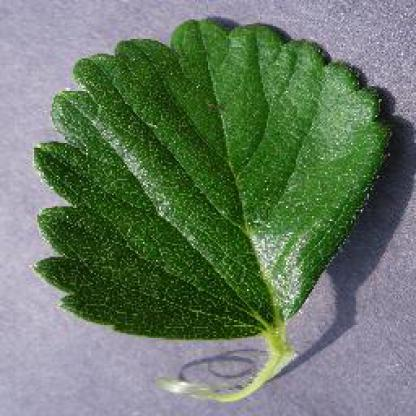healthy: (32, 15, 396, 396)
